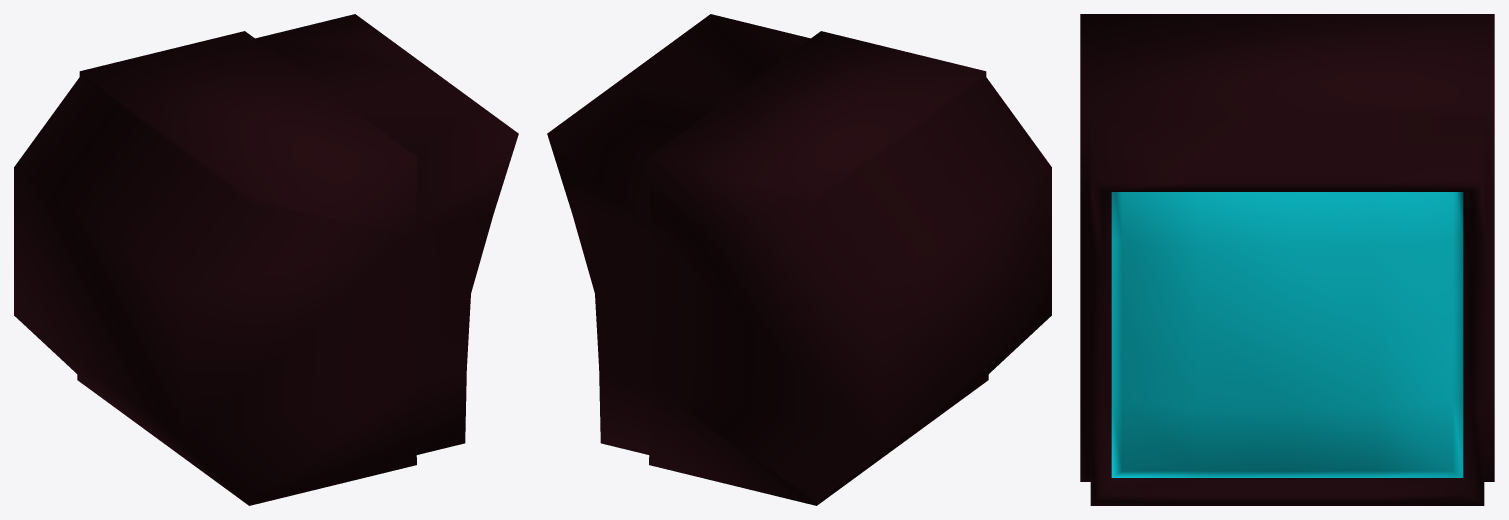
Rendered from tubeMonitor.fbx.
3 renders of one model, left to right at view 1: azimuth 30°, elevation 25°; view 2: azimuth 150°, elevation 25°; view 3: azimuth 270°, elevation 25°, orthographic. The views are drawn at different scales.
Visible parts, largest first — view 1: Cube; view 2: Cube; view 3: Cube.
Boxes of the visible parts, left/top/right/bottom form: Cube: left=14, top=14, right=518, bottom=505; Cube: left=547, top=14, right=1051, bottom=505; Cube: left=1080, top=14, right=1494, bottom=505.
Size of the model in its own units: 41.17 by 35.97 by 36.41.
